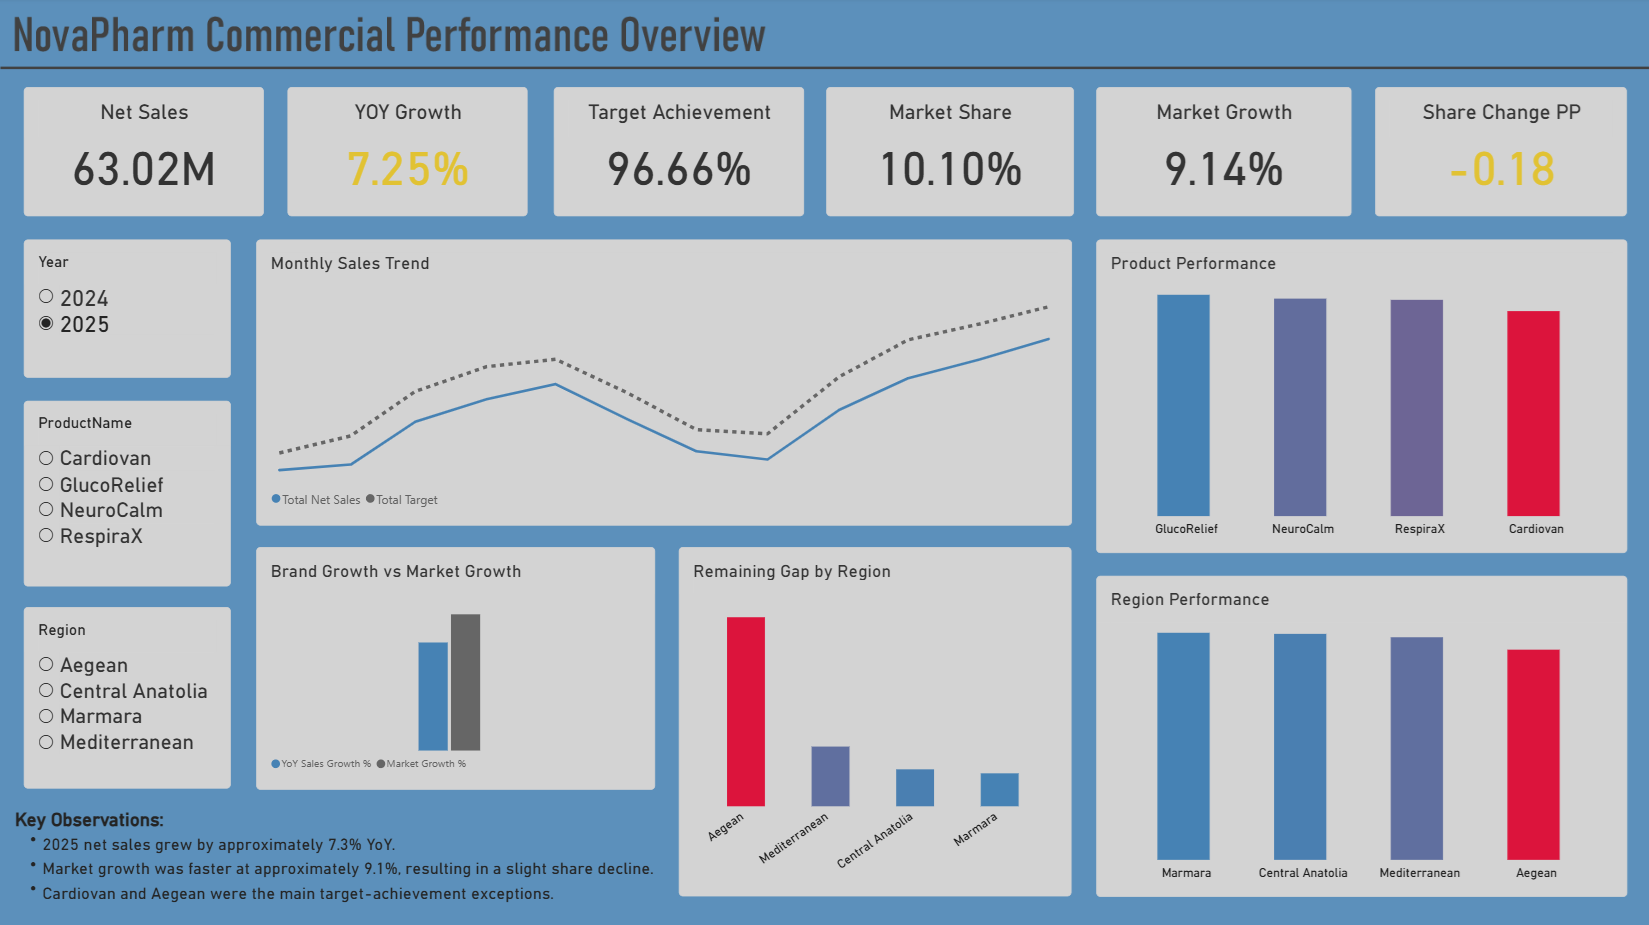

The dashboard page shown, as its layout file describes it:
{"tool":"powerbi","page":{"name":"Commercial Performance","canvas":[1920,1080],"ordinal":0},"visuals":[{"type":"listSlicer","fields":{"Values":["Date.Year"]},"box":[27.9,282.6,240.7,160.5],"z":0},{"type":"listSlicer","fields":{"Values":["Products.ProductName"]},"box":[27.9,469.2,240.7,216.3],"z":1000},{"type":"listSlicer","fields":{"Values":["Regions.Region"]},"box":[27.9,709.9,240.7,211],"z":2000},{"type":"cardVisual","title":"Share Change PP","fields":{"Data":["Measures_table.Share Change pp"]},"box":[1599.4,104.7,293,150],"z":3000},{"type":"cardVisual","title":"Target Achievement","fields":{"Data":["Measures_table.Achievement %"]},"box":[643.6,104.7,291.3,150],"z":4000},{"type":"cardVisual","title":"Market Share","fields":{"Data":["Measures_table.Market Share %"]},"box":[961,104.7,287.8,150],"z":5000},{"type":"cardVisual","title":"Net Sales","fields":{"Data":["Measures_table.Total Net Sales"]},"box":[27.9,104.7,279.1,150],"z":6000},{"type":"cardVisual","title":"YOY Growth","fields":{"Data":["Measures_table.YoY Sales Growth %"]},"box":[334.9,104.7,279.1,150],"z":7000},{"type":"cardVisual","title":"Market Growth","fields":{"Data":["Measures_table.Market Growth %"]},"box":[1275,104.7,296.5,150],"z":8000},{"type":"lineChart","title":"Monthly Sales Trend","fields":{"Category":["Date.YearMonth"],"Y":["Measures_table.Total Net Sales","Measures_table.Total Target"]},"box":[298.3,282.6,948.8,333.1],"z":9000},{"type":"clusteredColumnChart","title":"Brand Growth vs Market Growth","fields":{"Y":["Measures_table.YoY Sales Growth %","Measures_table.Market Growth %"]},"box":[298.3,640.1,464,282.6],"z":10000},{"type":"columnChart","title":"Product Performance","fields":{"Category":["Products.ProductName"],"Y":["Measures_table.Achievement %"]},"box":[1275,282.6,617.4,364.5],"z":11000},{"type":"columnChart","title":"Region Performance","fields":{"Category":["Regions.Region"],"Y":["Measures_table.Achievement %"]},"box":[1275,673.3,617.4,373.3],"z":12000},{"type":"columnChart","fields":{"Category":["Regions.Region"],"Y":["Measures_table.Remaining Gap"]},"box":[790.1,640.1,457,406.4],"z":13000},{"type":"textbox","box":[17.4,926.2,755.2,130.8],"z":14000}]}

Visuals, with their boxes in screenshot pixels (x1, y1, x2, y2), scaled from the page's 1920x1080 canvas onto the 1649x925 screenshot:
listSlicer - Date.Year: x1=24 y1=242 x2=231 y2=380
listSlicer - Products.ProductName: x1=24 y1=402 x2=231 y2=587
listSlicer - Regions.Region: x1=24 y1=608 x2=231 y2=789
"Share Change PP" cardVisual: x1=1374 y1=90 x2=1625 y2=218
"Target Achievement" cardVisual: x1=553 y1=90 x2=803 y2=218
"Market Share" cardVisual: x1=825 y1=90 x2=1073 y2=218
"Net Sales" cardVisual: x1=24 y1=90 x2=264 y2=218
"YOY Growth" cardVisual: x1=288 y1=90 x2=527 y2=218
"Market Growth" cardVisual: x1=1095 y1=90 x2=1350 y2=218
"Monthly Sales Trend" lineChart: x1=256 y1=242 x2=1071 y2=527
"Brand Growth vs Market Growth" clusteredColumnChart: x1=256 y1=548 x2=655 y2=790
"Product Performance" columnChart: x1=1095 y1=242 x2=1625 y2=554
"Region Performance" columnChart: x1=1095 y1=577 x2=1625 y2=896
columnChart - Regions.Region x Measures_table.Remaining Gap: x1=679 y1=548 x2=1071 y2=896
textbox: x1=15 y1=793 x2=664 y2=905
